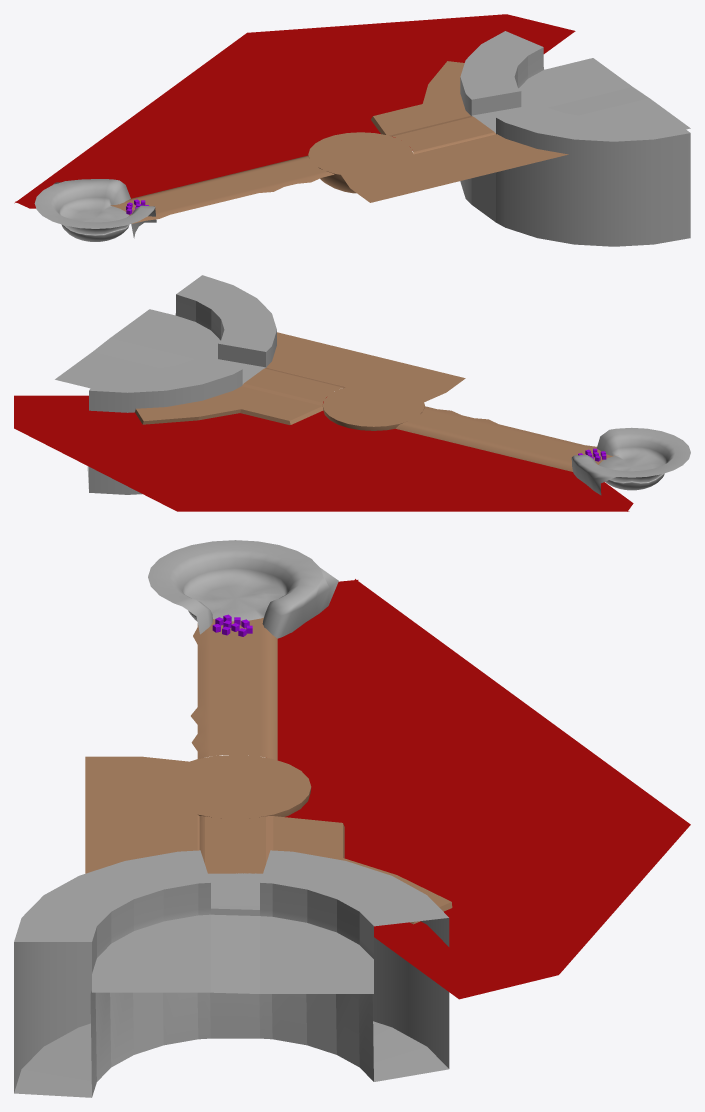
The model's file is megablockout.fbx.
3 renders of one model, top to bottom at view 1: azimuth 30°, elevation 25°; view 2: azimuth 150°, elevation 25°; view 3: azimuth 270°, elevation 25°, orthographic. The views are drawn at different scales.
Visible parts, largest first — view 1: polySurface11, polySurface12, pSphere2, polySurface2, polySurface13, polySurface3, polySurface8, polySurface15, polySurface14, polySurface7, polySurface10; view 2: polySurface11, polySurface12, pSphere2, polySurface2, polySurface13, polySurface3, polySurface8, polySurface14, polySurface15, polySurface7, polySurface10; view 3: polySurface11, polySurface12, polySurface13, pSphere2, polySurface2, polySurface3, polySurface14, polySurface8, polySurface15, polySurface7, polySurface10.
Boxes of the visible parts, x1,y1,x2,y2 form: polySurface11: (14, 14, 575, 203); polySurface12: (460, 31, 690, 246); pSphere2: (308, 132, 568, 202); polySurface2: (15, 116, 395, 208); polySurface13: (519, 58, 690, 129); polySurface3: (34, 179, 156, 241); polySurface8: (371, 61, 483, 143); polySurface15: (128, 165, 334, 223); polySurface14: (110, 155, 314, 211); polySurface7: (406, 124, 495, 154); polySurface10: (472, 107, 522, 132); polySurface11: (14, 395, 629, 511); polySurface12: (87, 275, 276, 494); pSphere2: (266, 332, 465, 430); polySurface2: (285, 410, 633, 511); polySurface13: (55, 309, 220, 388); polySurface3: (571, 427, 690, 495); polySurface8: (135, 376, 329, 424); polySurface14: (395, 416, 601, 471); polySurface15: (418, 406, 614, 460); polySurface7: (254, 368, 345, 394); polySurface10: (216, 359, 265, 384); polySurface11: (344, 579, 690, 999); polySurface12: (14, 850, 449, 1097); polySurface13: (92, 914, 373, 993); pSphere2: (85, 754, 311, 873); polySurface2: (277, 580, 358, 827); polySurface3: (148, 540, 338, 638); polySurface14: (235, 617, 277, 760); polySurface8: (235, 816, 452, 924); polySurface15: (191, 619, 235, 758); polySurface7: (199, 816, 235, 873); polySurface10: (208, 873, 262, 905).
Size of the model in its own units: 16077 by 2643 by 10706.
